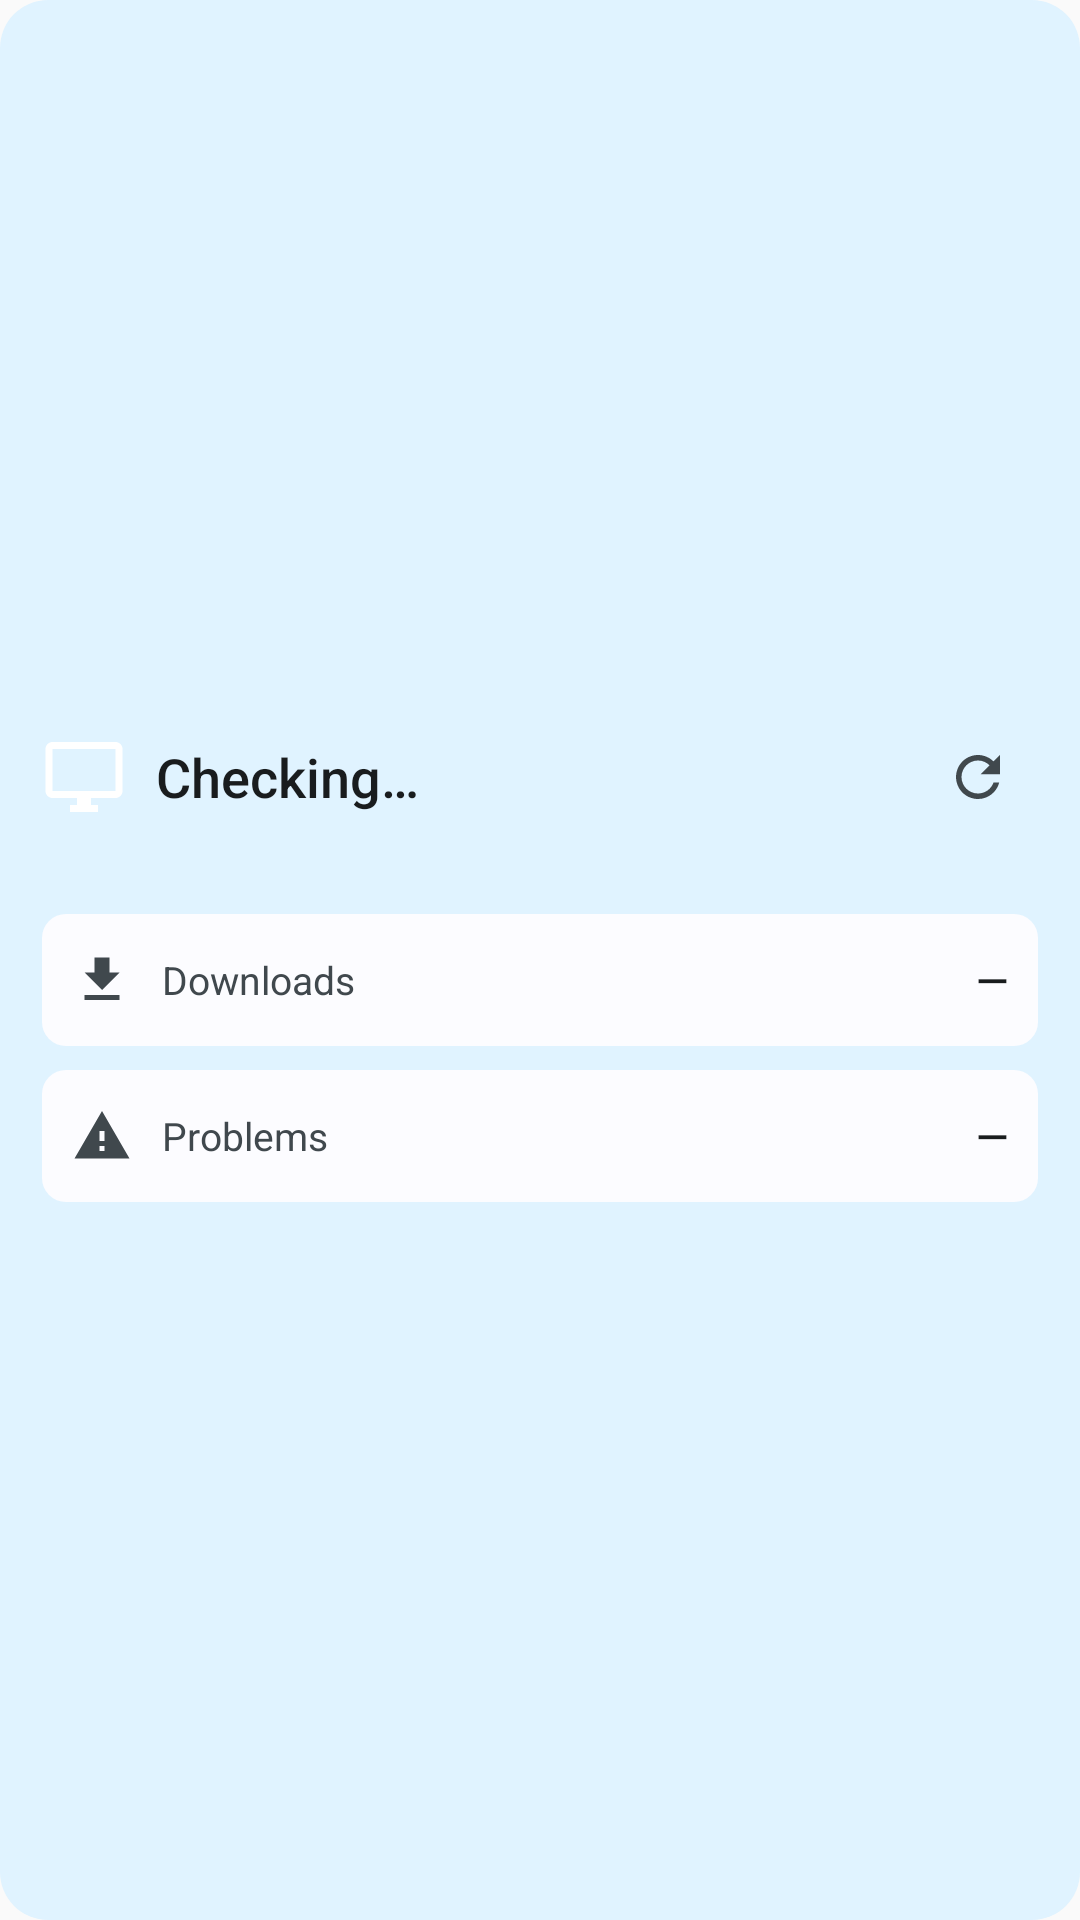

Screen size 1080px x 1920px. Icon name, then its box in pixels as (x1, y1, x2, y2):
Refresh: (956, 755, 1000, 799)
widget download: (84, 957, 120, 1000)
widget pc: (46, 742, 122, 812)
widget problem: (74, 1111, 130, 1159)
